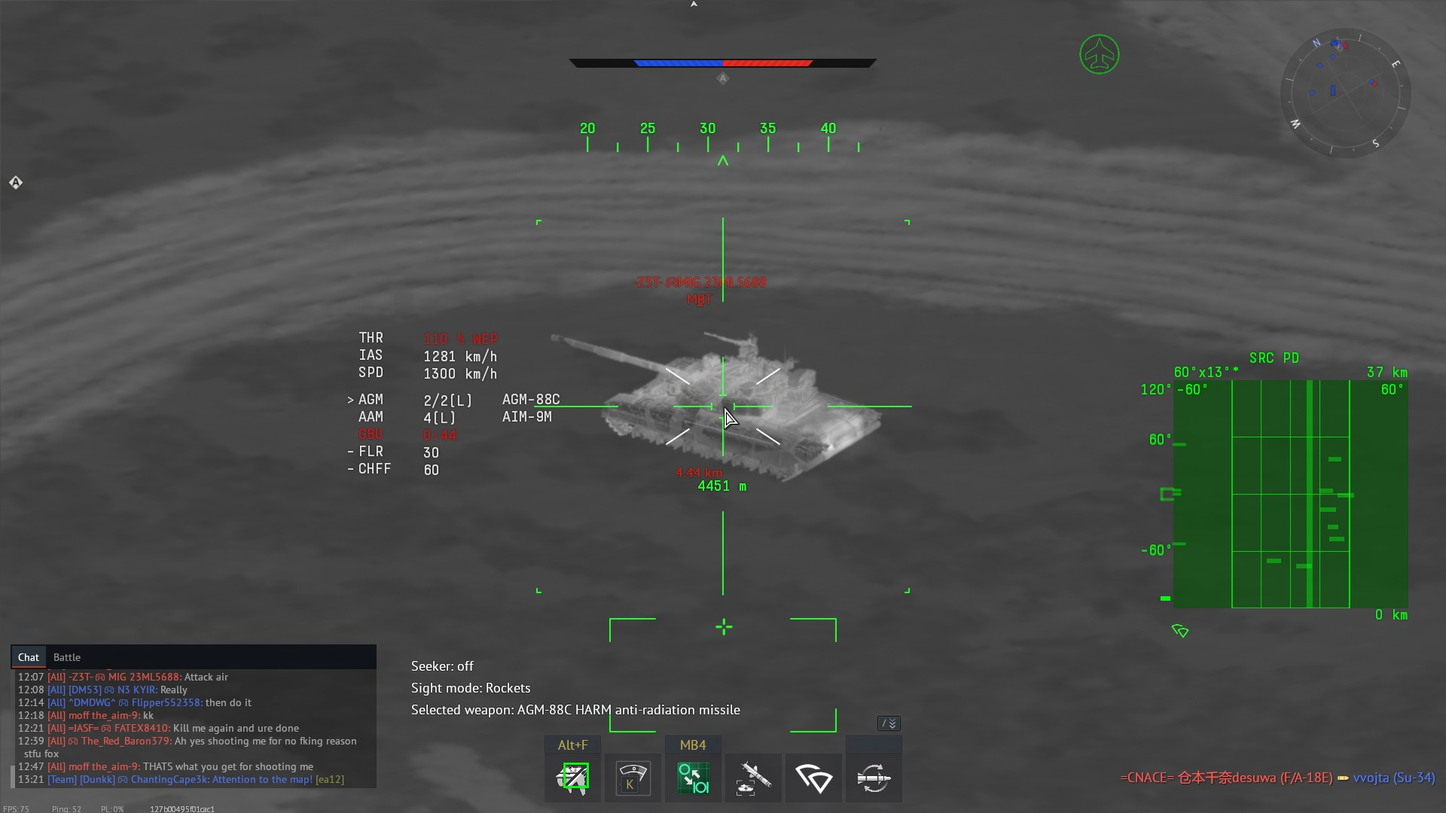t-80u: (548, 330, 883, 483)
